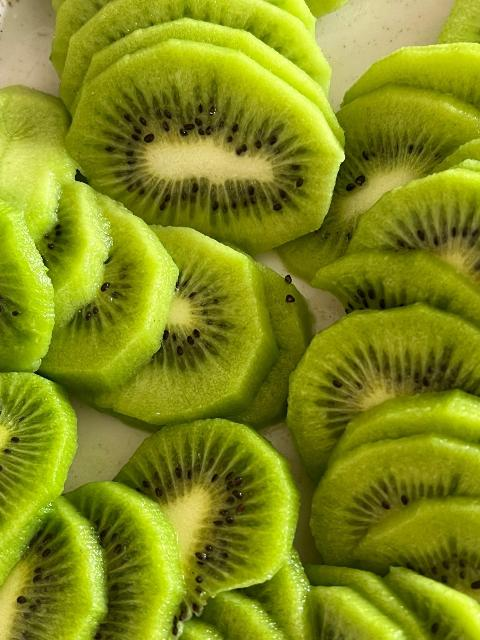Organik: (84, 39, 325, 244), (58, 220, 264, 403), (128, 417, 295, 589), (309, 188, 480, 344), (0, 483, 155, 640), (303, 325, 480, 461), (297, 448, 480, 564), (148, 577, 480, 640), (0, 370, 92, 591), (350, 48, 480, 184), (0, 103, 83, 230), (0, 183, 47, 397)
